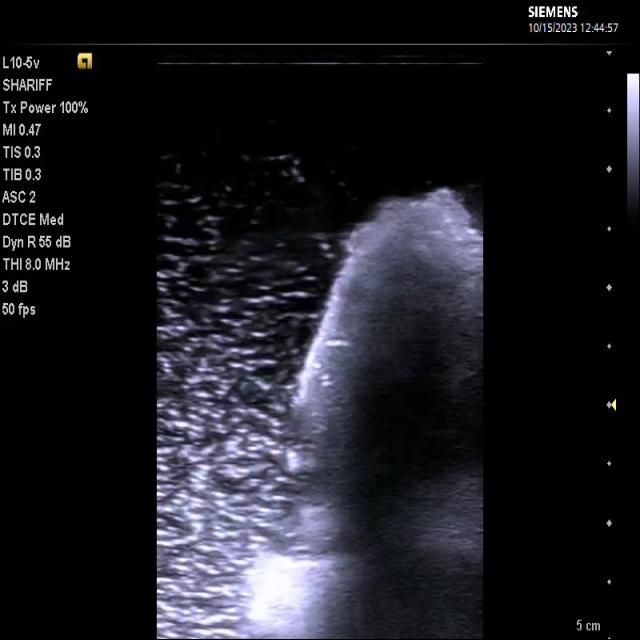tissue: (248, 191, 483, 638)
